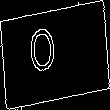O_S: (40, 27, 70, 83)
